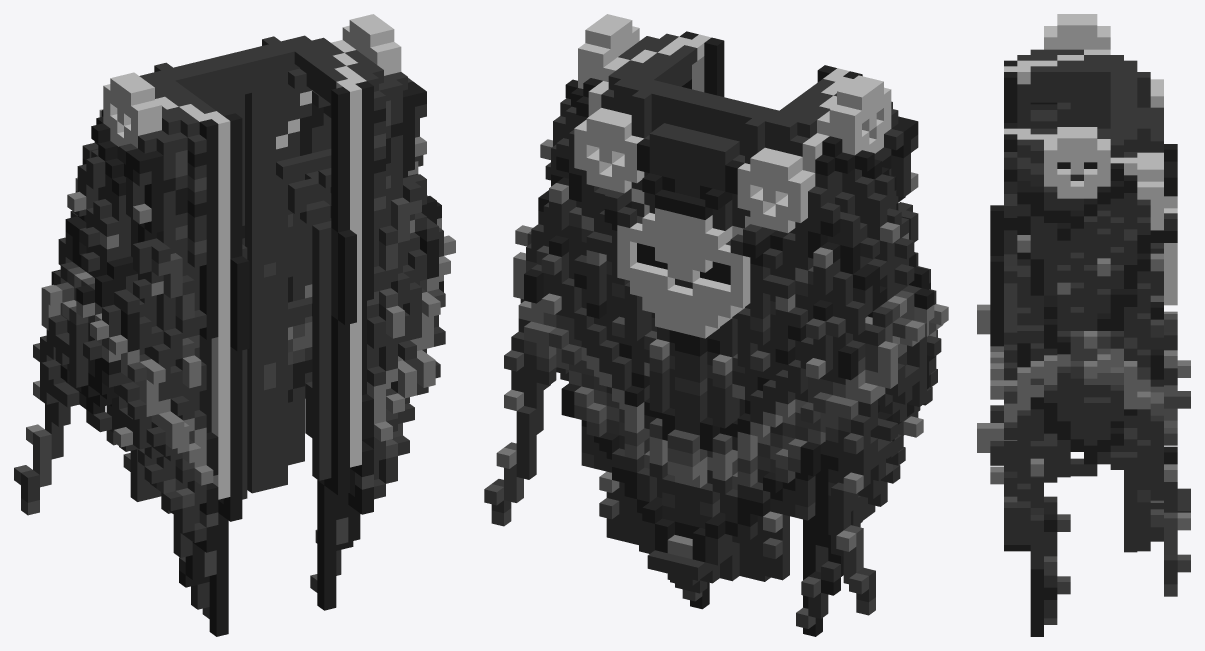
The model's file is capuche_mo.glb.
3 views of the same model, side by side, from view 1: azimuth 30°, elevation 25°; view 2: azimuth 150°, elevation 25°; view 3: azimuth 270°, elevation 25° (orthographic). The views are drawn at different scales.
Visible parts, largest first — view 1: CAPE; view 2: CAPE; view 3: CAPE.
Boxes of the visible parts, x1,y1,x2,y2 form: CAPE: [14, 14, 455, 636]; CAPE: [484, 14, 948, 636]; CAPE: [977, 14, 1190, 636].
Bounding box in the file's own units: 1.38 × 1.89 × 0.688.
Materials: 1 (1 with a texture image).
